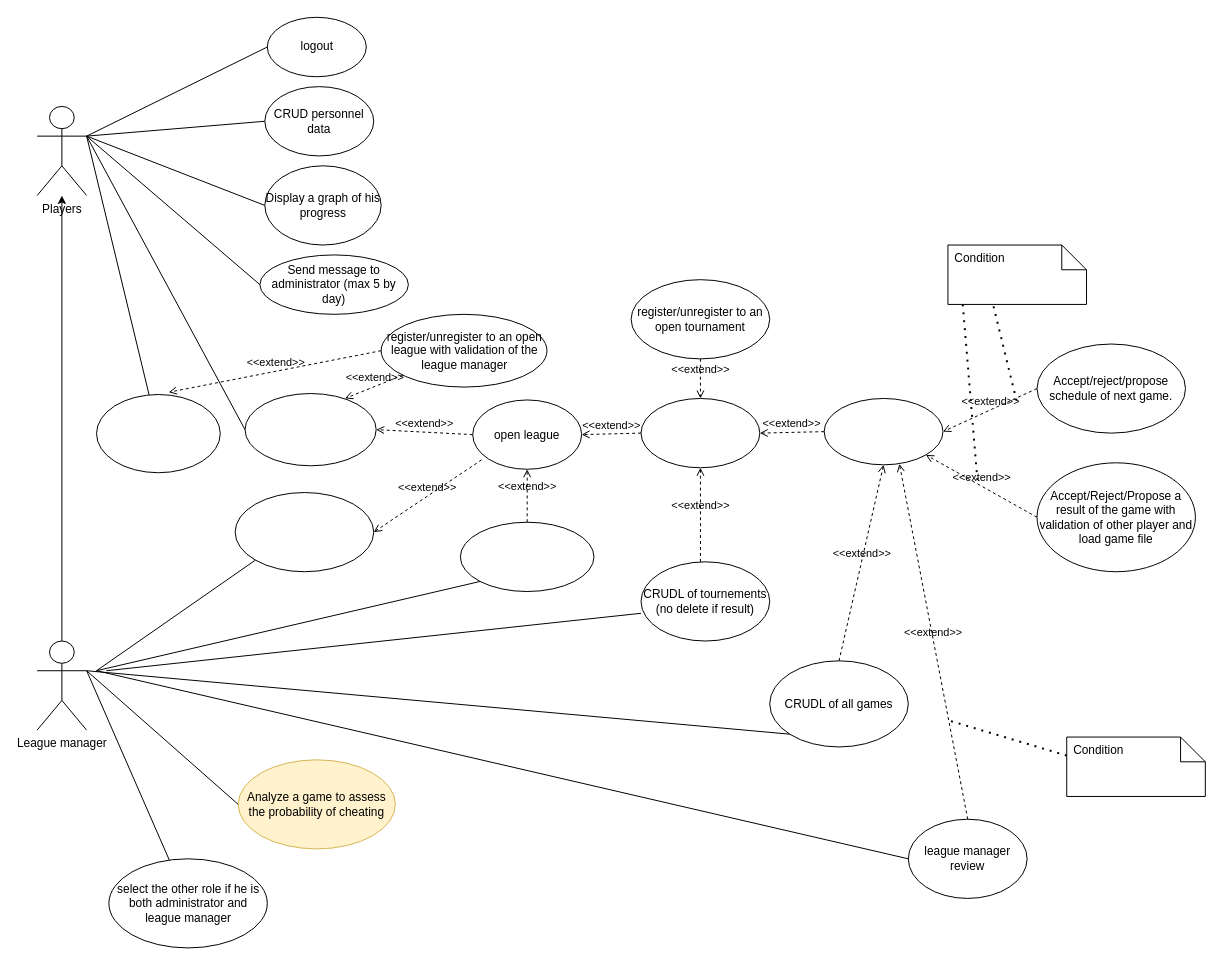
The diagram is 1223 pixels wide and 965 high, and some of its shapes have lost their labels. Here are the shapes that lost their labels. From the top down, the box of each, then its label:
(947, 244, 1087, 304): Tournament is open
(96, 394, 220, 473): list of leagues where he is not registered
(244, 393, 376, 466): list of leagues where he is registered
(640, 397, 760, 468): list of tournaments
(823, 397, 943, 465): open tournament
(234, 492, 374, 572): CRUDL of his own leagues
(459, 521, 594, 592): CRUDL of players and registration request
(1066, 736, 1205, 796): If a player reject result proposition
